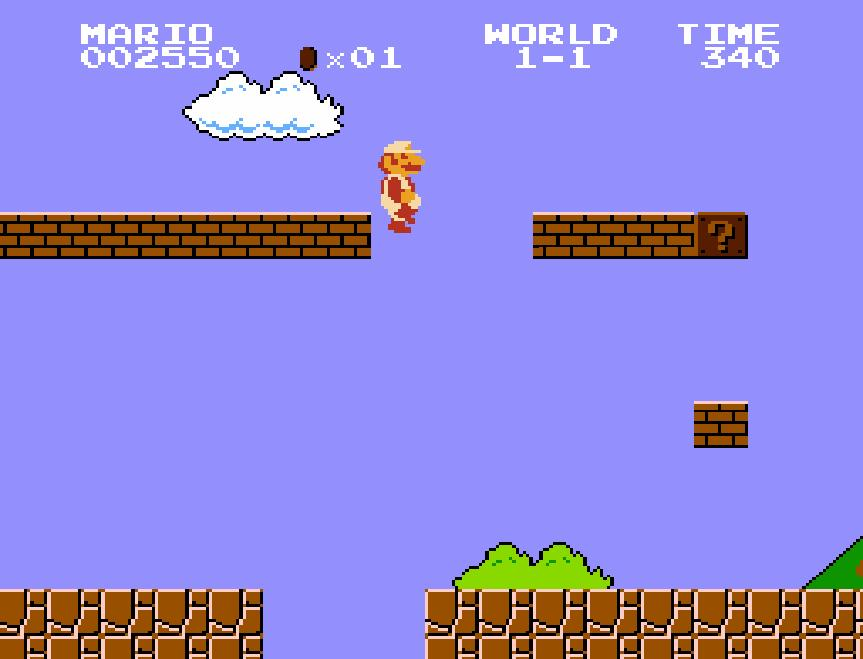fire_mario: (372, 136, 430, 234)
